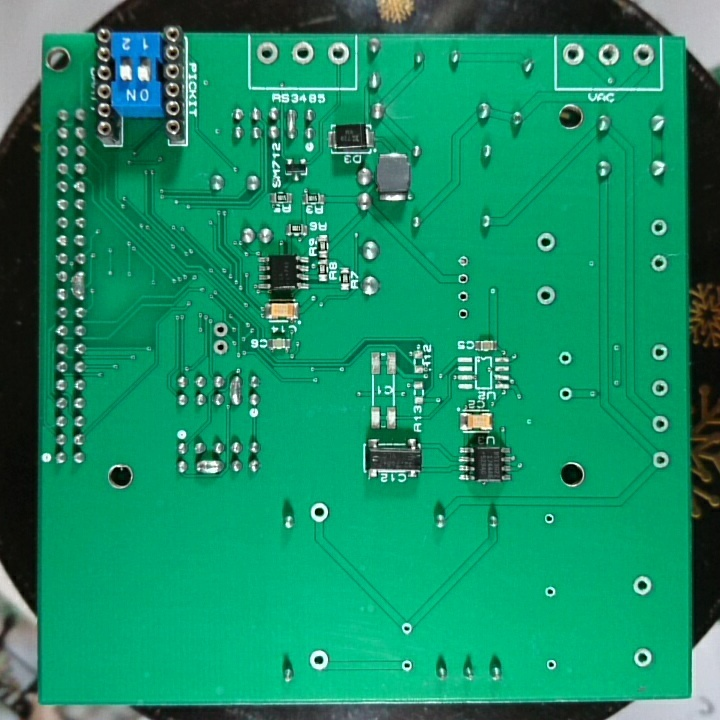F: (290, 40, 317, 67), (325, 41, 352, 68), (628, 573, 657, 598), (594, 43, 621, 68), (256, 40, 280, 68), (535, 229, 559, 257), (562, 39, 585, 67), (308, 648, 332, 673), (648, 340, 672, 364), (631, 41, 654, 66), (534, 283, 557, 308), (629, 644, 651, 669), (309, 500, 331, 524), (651, 447, 671, 473), (649, 216, 671, 239), (649, 412, 671, 435), (648, 379, 672, 400), (649, 252, 669, 275), (556, 384, 577, 404), (211, 318, 231, 338), (211, 337, 231, 357), (557, 347, 574, 369), (542, 583, 560, 601), (397, 620, 414, 639), (454, 286, 471, 305), (399, 655, 414, 676), (542, 657, 559, 675), (456, 304, 472, 323), (455, 252, 471, 269), (454, 272, 472, 287), (542, 511, 556, 529)
P: (193, 459, 224, 479), (227, 371, 243, 409), (69, 269, 88, 300), (285, 107, 298, 142)
